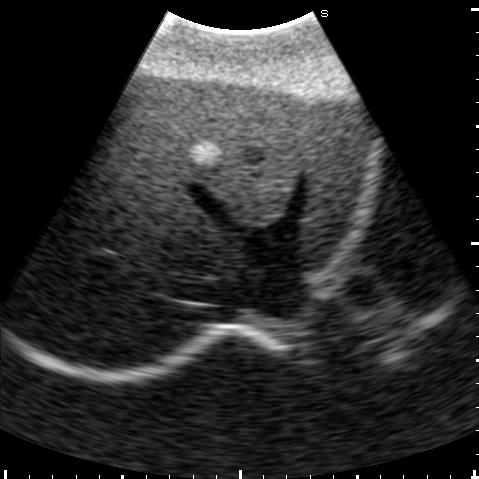S2: (307, 120, 364, 263)
S4: (124, 78, 308, 226)
S7: (27, 227, 214, 369)
S8: (78, 111, 238, 280)
Tumor: (190, 143, 221, 167)
